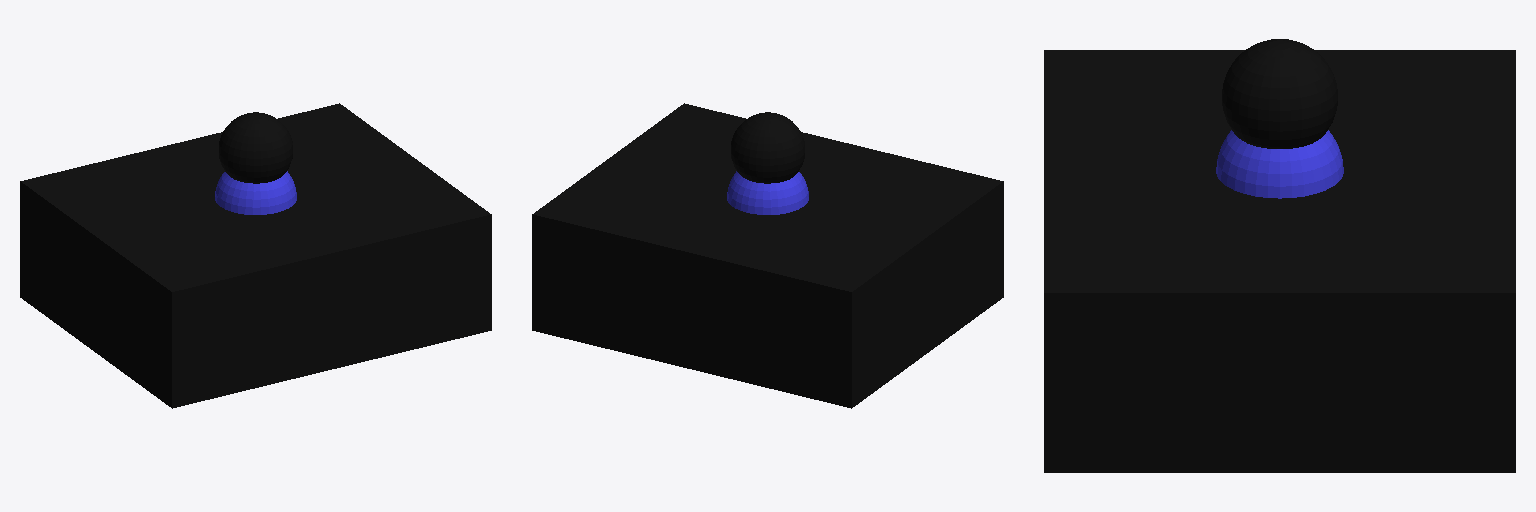
robot.urdf — evolved_robot:
<?xml version="1.0"?>
<robot name="evolved_robot">
  <material name="metal">
    <color rgba="0.7 0.7 0.7 1.0"/>
  </material>
  <material name="plastic">
    <color rgba="0.3 0.3 0.9 1.0"/>
  </material>
  <material name="rubber">
    <color rgba="0.1 0.1 0.1 1.0"/>
  </material>
  <material name="red">
    <color rgba="1.0 0.0 0.0 1.0"/>
  </material>
  <material name="wheel_material">
    <color rgba="0.2 0.2 0.2 1.0"/>
  </material>
  <link name="base_link">
    <visual>
      <geometry><box size="0.34879374961555876 0.2867757265282742 0.12138160494244313"/></geometry>
      <material name="rubber"/>
    </visual>
    <collision>
      <geometry><box size="0.34879374961555876 0.2867757265282742 0.12138160494244313"/></geometry>
    </collision>
    <inertial>
      <mass value="5.0"/>
      <inertia ixx="0.08081150945351905" ixy="0" ixz="0" 
               iyy="0.11365881149107036" iyz="0" 
               izz="0.16991449758058386"/>
    </inertial>
  </link>
  <link name="link1">
    <visual>
      <geometry><sphere radius="0.038968192844657516"/></geometry>
      <material name="plastic"/>
    </visual>
    <collision>
      <geometry><sphere radius="0.038968192844657516"/></geometry>
    </collision>
    <inertial>
      <mass value="0.5"/>
      <inertia ixx="0.0006074080214313669" ixy="0" ixz="0" 
               iyy="0.0006074080214313669" iyz="0" 
               izz="0.0006074080214313669"/>
    </inertial>
  </link>
  <joint name="joint1" type="revolute">
    <parent link="base_link"/>
    <child link="link1"/>
    <origin xyz="0 0 0.060690802471221564" rpy="0 0 0"/>
    <axis xyz="0.7590999362456892 -0.5425448325609833 -0.35973933820638143"/>
    <dynamics damping="0.7491799144562219" friction="0.1"/>
    <limit lower="-2.1680071736017976" upper="1.1745277394494336" effort="100" velocity="100"/>
  </joint>
  <link name="link2">
    <visual>
      <geometry>
        <cylinder radius="0.06309177534795424" length="0.04130148012113678"/>
      </geometry>
      <material name="wheel_material"/>
    </visual>
    <collision>
      <geometry>
        <cylinder radius="0.06309177534795424" length="0.04130148012113678"/>
      </geometry>
    </collision>
    <inertial>
      <mass value="1.0"/>
      <inertia ixx="0.0011372940508222362" ixy="0" ixz="0" 
               iyy="0.0011372940508222362" iyz="0" 
               izz="0.001990286058278363"/>
    </inertial>
  </link>
  <joint name="joint2" type="continuous">
    <parent link="base_link"/>
    <child link="link2"/>
    <origin xyz="0 0 0" rpy="1.5708 0 0"/>
    <axis xyz="0 1 0"/>
    <dynamics damping="0.8580717811056615" friction="0.1"/>
  </joint>
  <link name="link3">
    <visual>
      <geometry><sphere radius="0.03557170819073084"/></geometry>
      <material name="rubber"/>
    </visual>
    <collision>
      <geometry><sphere radius="0.03557170819073084"/></geometry>
    </collision>
    <inertial>
      <mass value="0.5"/>
      <inertia ixx="0.000506138569442603" ixy="0" ixz="0" 
               iyy="0.000506138569442603" iyz="0" 
               izz="0.000506138569442603"/>
    </inertial>
  </link>
  <joint name="joint3" type="floating">
    <parent link="base_link"/>
    <child link="link3"/>
    <origin xyz="0 0 0.11069080247122157" rpy="0 0 0"/>
    <axis xyz="0.9075949032158163 0.4194719548236207 0.0177417804383744"/>
    <dynamics damping="0.7714755873216728" friction="0.1"/>
  </joint>
</robot>

--- Facts derived from the render (not from the file) ---
The picture shows the robot from 3 angles, left to right: view 1: azimuth 30°, elevation 25°; view 2: azimuth 150°, elevation 25°; view 3: azimuth 270°, elevation 25°; orthographic projection.
Robot: evolved_robot — 4 links, 3 joints (1 revolute, 1 continuous, 1 floating); root link base_link; default pose: all joints at 0.
Links seen in each view (by area): view 1: base_link, link3, link1; view 2: base_link, link3, link1; view 3: base_link, link3, link1.
Boxes of the visible links, left/top/right/bottom form: base_link: left=20, top=103, right=491, bottom=408; link3: left=219, top=112, right=292, bottom=183; link1: left=215, top=171, right=296, bottom=214; base_link: left=532, top=103, right=1003, bottom=408; link3: left=731, top=112, right=804, bottom=183; link1: left=727, top=171, right=808, bottom=214; base_link: left=1044, top=50, right=1515, bottom=472; link3: left=1222, top=39, right=1337, bottom=148; link1: left=1216, top=130, right=1343, bottom=198.
Bounding box of the posed robot: 0.3488 × 0.2868 × 0.2094 m (x, y, z).
Geometry: primitives only (box / cylinder / sphere), no mesh files.